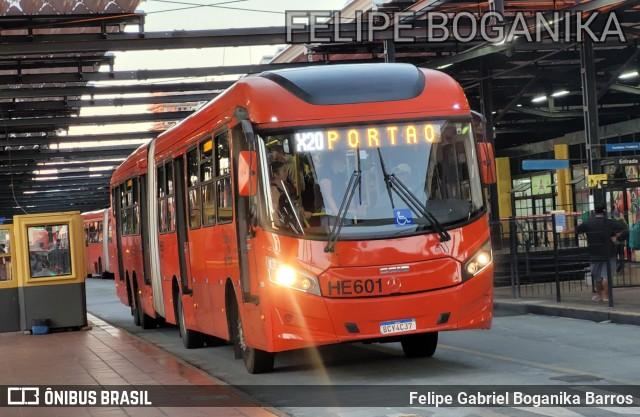PORTAO: (322, 121, 440, 152)
